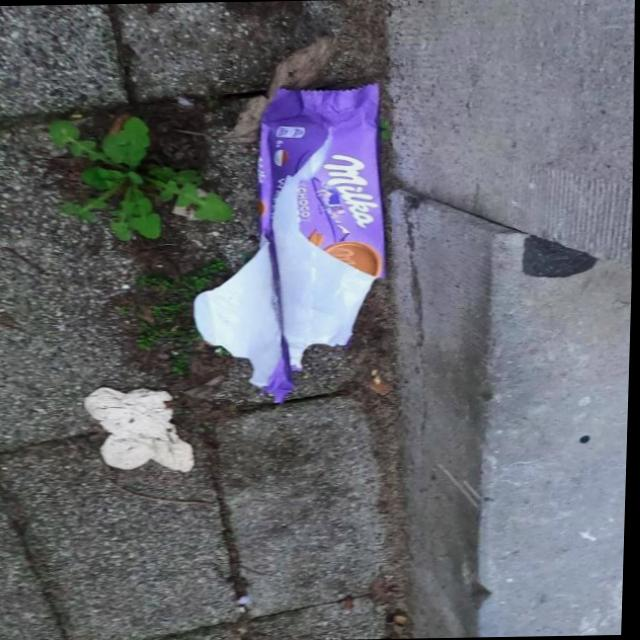Paper: (81, 384, 201, 475)
Plastic: (183, 80, 397, 408)
